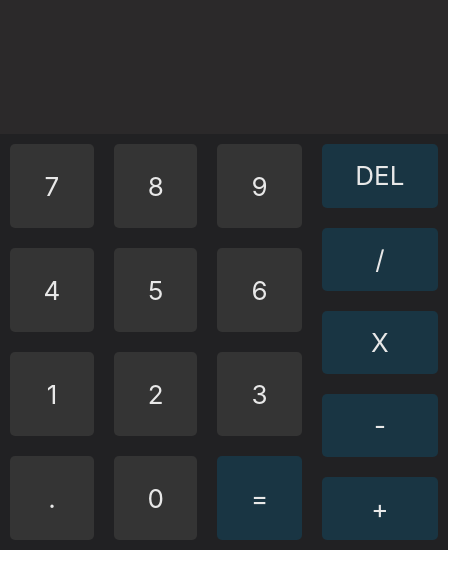
clicking several numbers should display them
This screenshot has width=465, height=567.
Click the text "1" at (52, 394), box [10,352,94,436]
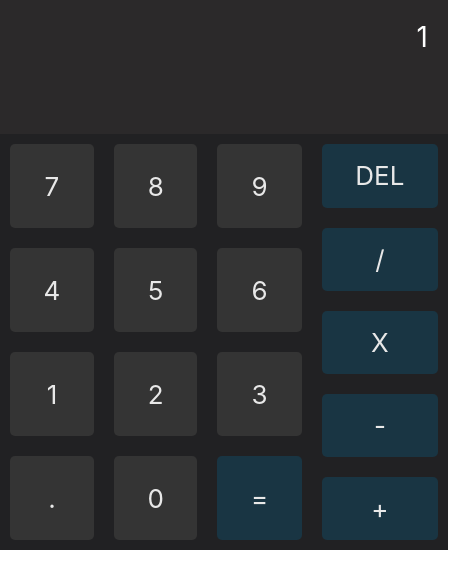
Click the text "3" at (260, 394), box [218,352,302,436]
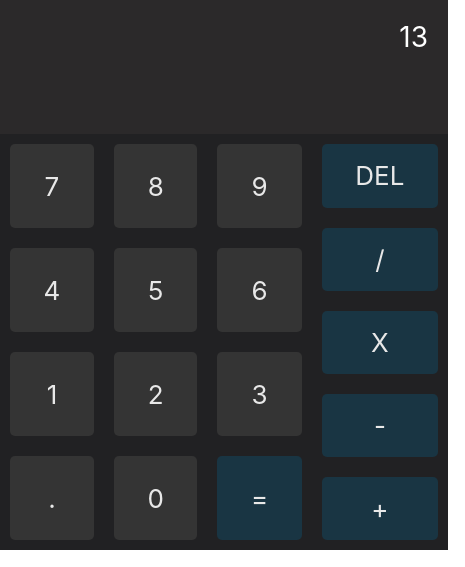
Click the text "7" at (52, 186), box [10,144,94,228]
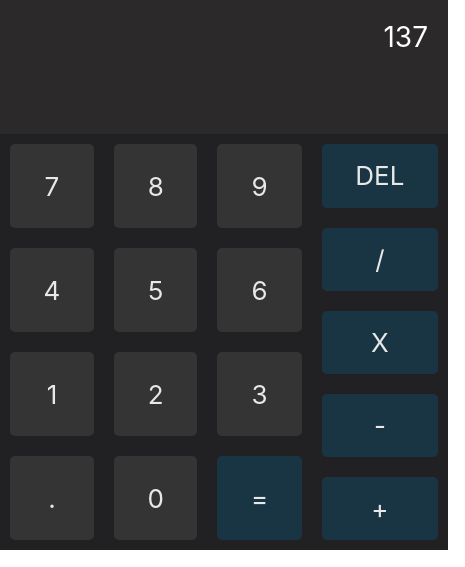
Check: the text with test id "expression" reads "137", box [384,20,428,54]
